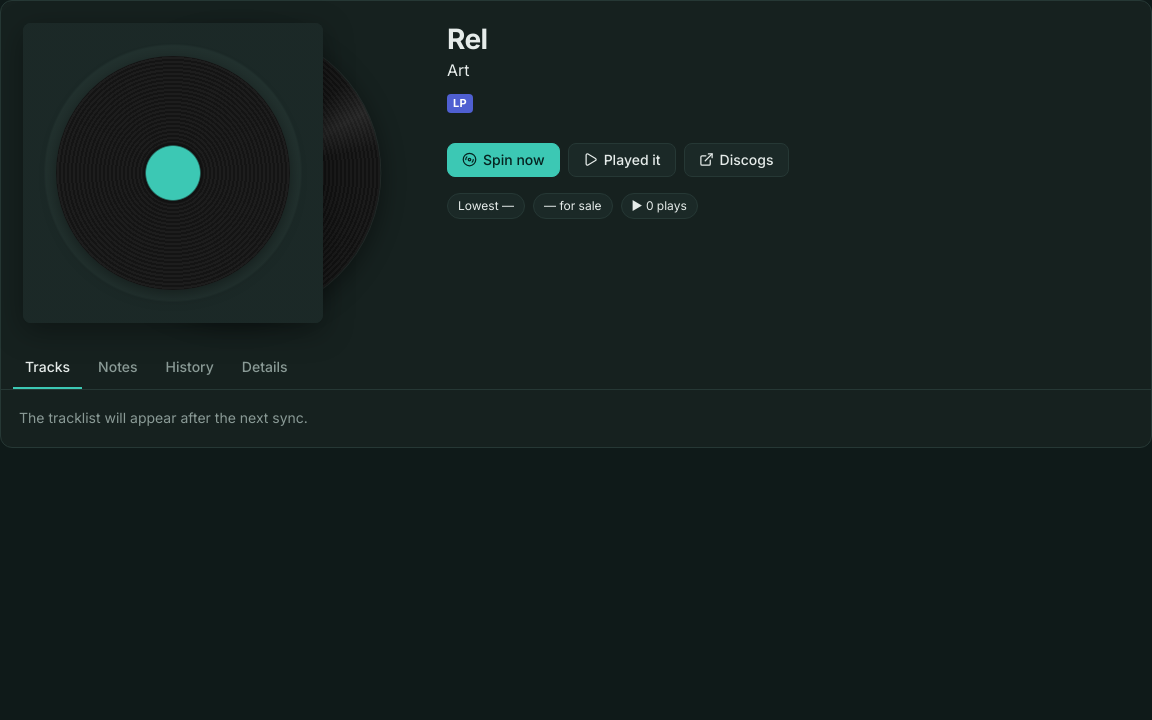
it: Spin now in the cover popup marks the record, opens the overlay and closes the popup
The image size is (1152, 720).
Click the element with class "cover-disc-sleeve": (173, 173) [23,23,323,323]
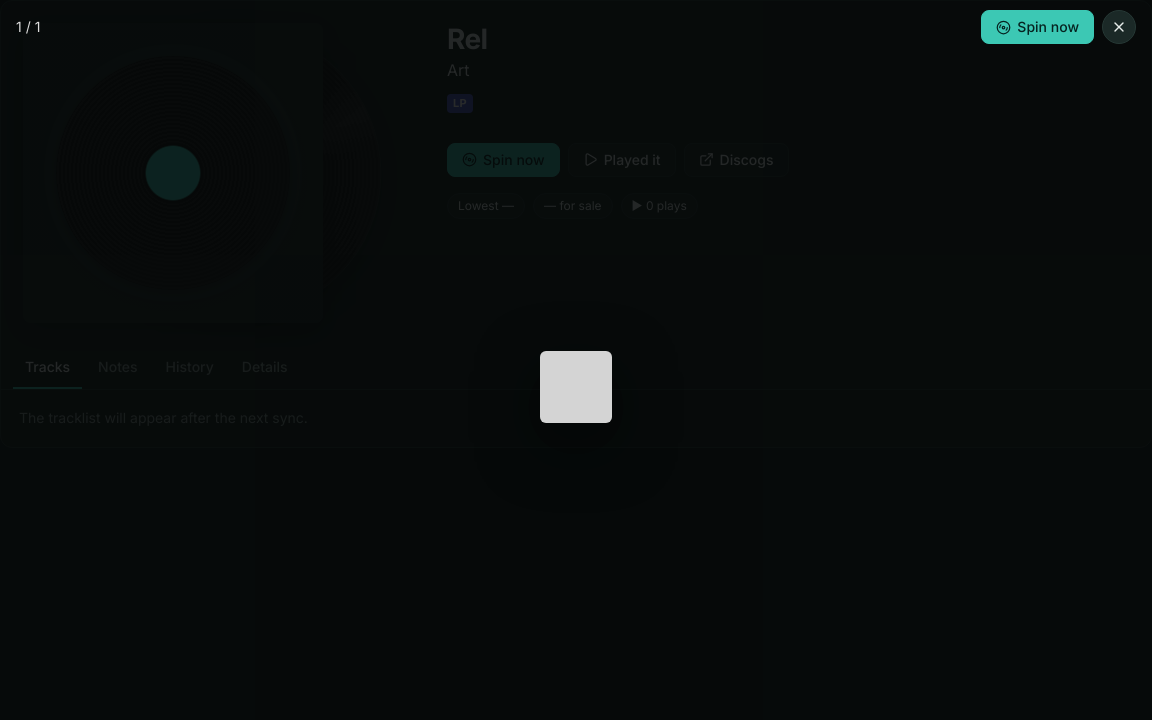
Click the button "Spin now": (1038, 27) [981,10,1094,44]
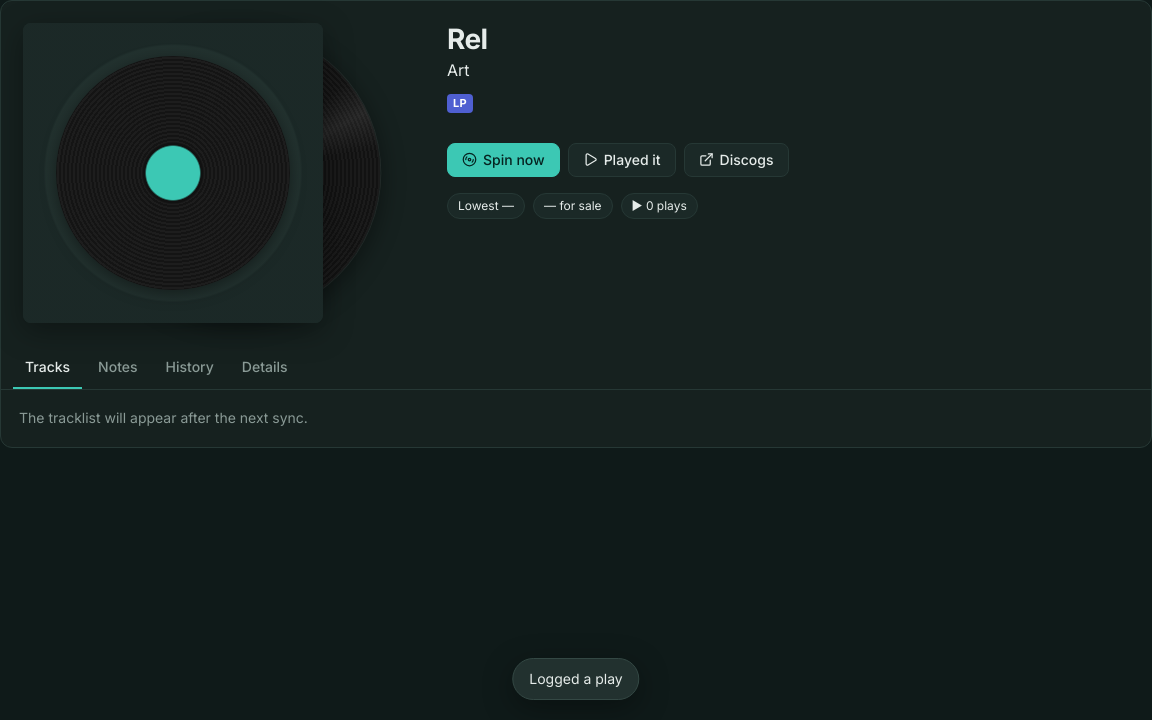
Now the dialog "Images" is gone
